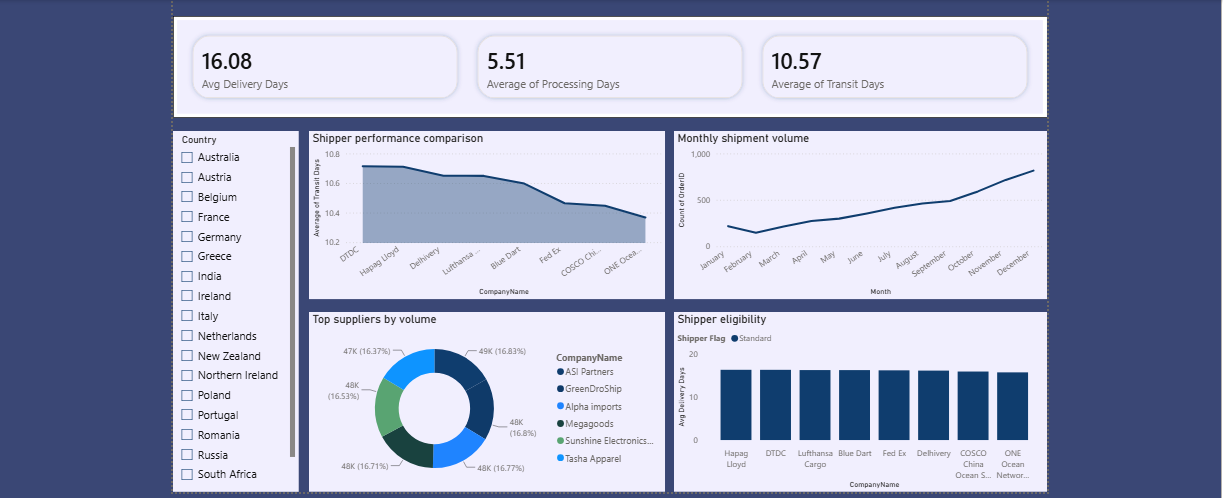

What the dashboard file says about the page in this screenshot:
{"tool":"powerbi","page":{"name":"Supply & Logistics","canvas":[1280,720],"ordinal":1},"visuals":[{"type":"cardVisual","fields":{"Data":["orders.Avg Delivery Days","Avg(orders.Processing Days)","Avg(orders.Transit Days)"]},"box":[0,23.4,1280.5,149.3],"z":0},{"type":"stackedAreaChart","title":"Shipper performance comparison","fields":{"Category":["shippers.CompanyName"],"Y":["Avg(orders.Transit Days)"]},"box":[199,191.7,521,245.9],"z":1000},{"type":"donutChart","title":"Top suppliers by volume","fields":{"Category":["suppliers.CompanyName"],"Y":["orderdetails.Total Units Sold"]},"box":[199,456.6,521,263.4],"z":2000},{"type":"lineChart","title":"Monthly shipment volume","fields":{"Category":["orders.ShipDate.Variation.Date Hierarchy.Month","orders.ShipDate.Variation.Date Hierarchy.Day"],"Y":["CountNonNull(orders.OrderID)"]},"box":[733.2,191.7,547.3,245.9],"z":3000},{"type":"clusteredColumnChart","title":"Shipper  eligibility","fields":{"Series":["orders.Shipper Flag"],"Y":["orders.Avg Delivery Days"],"Category":["shippers.CompanyName"]},"box":[733.2,456.6,547.3,263.4],"z":4000},{"type":"slicer","fields":{"Values":["customers.Country"]},"box":[0,191.7,184.4,528.3],"z":5000}]}

Visuals, with their boxes in screenshot pixels (x1, y1, x2, y2):
cardVisual - orders.Avg Delivery Days x Avg(orders.Processing Days): bbox=[169, 13, 1040, 114]
"Shipper performance comparison" stackedAreaChart: bbox=[304, 127, 659, 295]
"Top suppliers by volume" donutChart: bbox=[304, 308, 659, 487]
"Monthly shipment volume" lineChart: bbox=[668, 127, 1040, 295]
"Shipper  eligibility" clusteredColumnChart: bbox=[668, 308, 1040, 487]
slicer - customers.Country: bbox=[169, 127, 294, 487]
